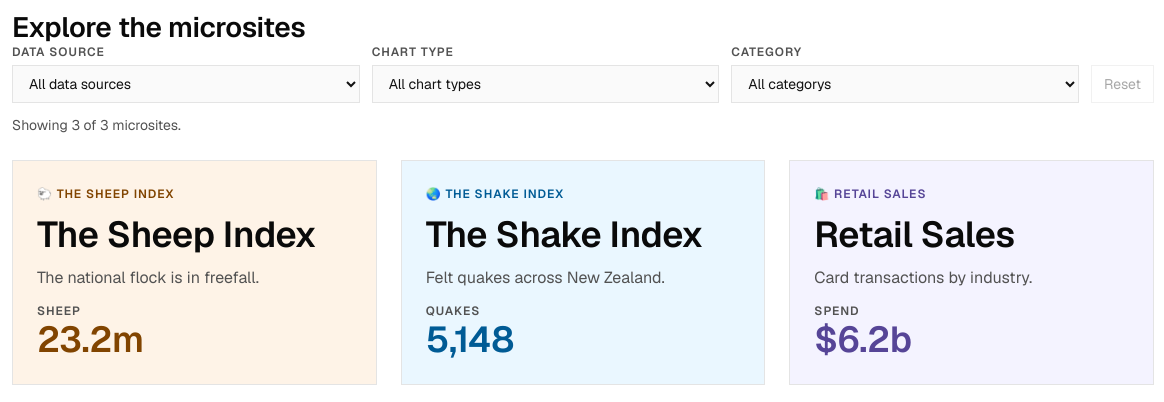
Test: MicrositeGallery › shows an empty state when no card matches and reset restores the grid
Select "GeoNet" in the dropdown labelled "Data source" at (186, 84), box top-left (12, 65), bottom-right (360, 103)
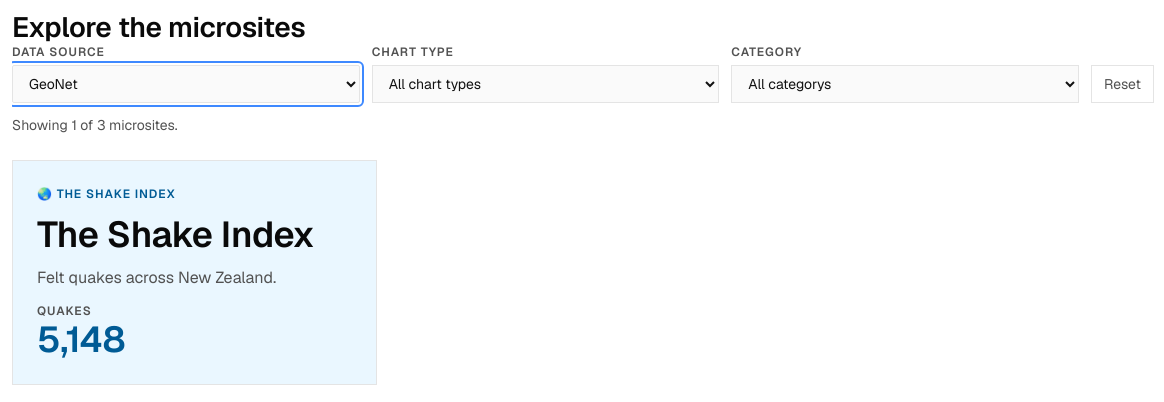
Select "Streamgraph" in the dropdown labelled "Chart type" at (546, 84), box top-left (372, 65), bottom-right (719, 103)
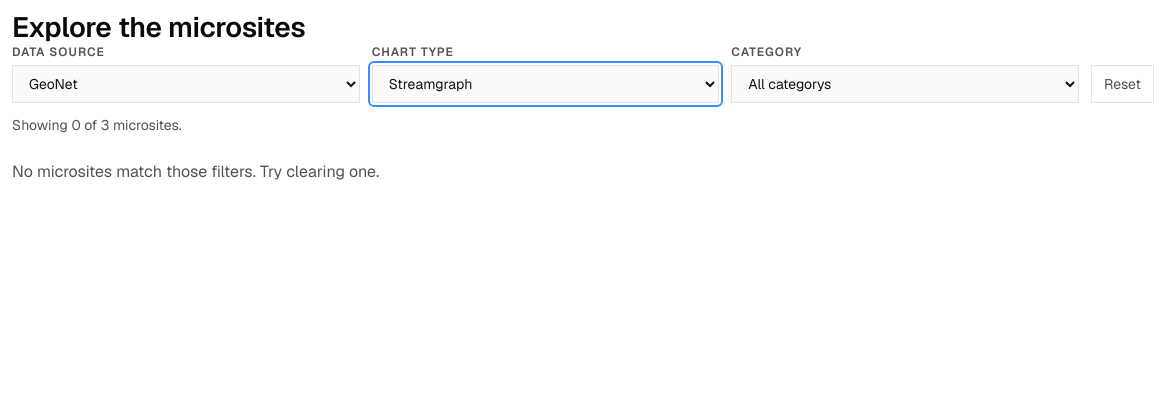
Expected: the text "No microsites match those filters. Try clearing one." is shown, top-left (12, 161), bottom-right (379, 182)
Click the button "Reset" at (1122, 84), box top-left (1091, 65), bottom-right (1154, 103)
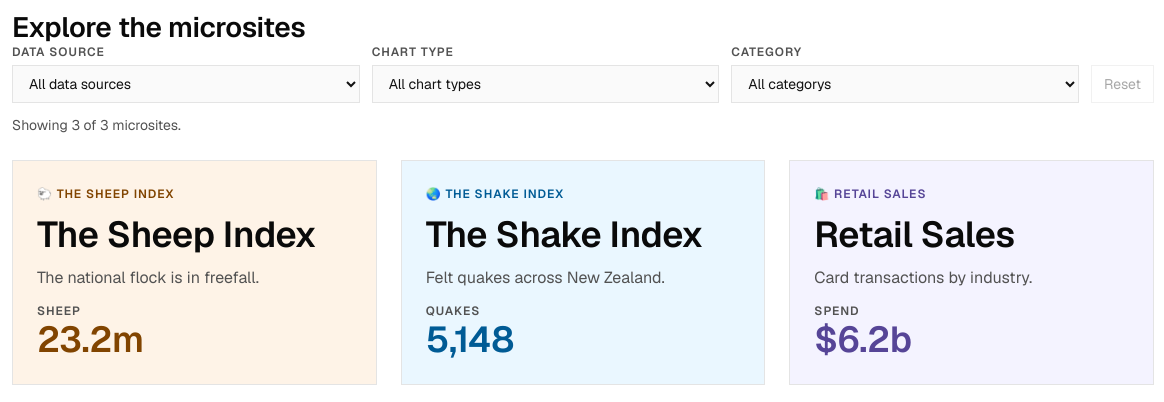
Expected: the text "Showing 3 of 3 microsites." is shown, top-left (12, 116), bottom-right (181, 134)
